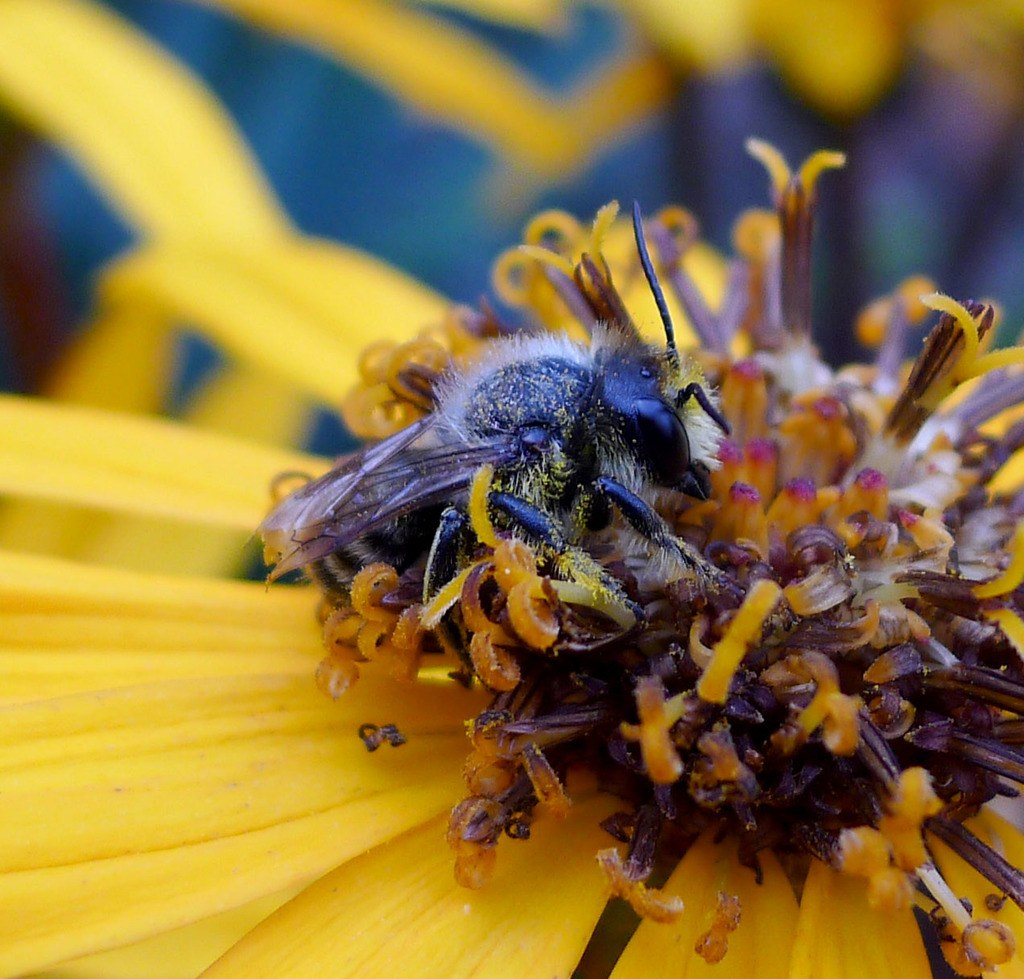bee: (274, 242, 725, 729)
